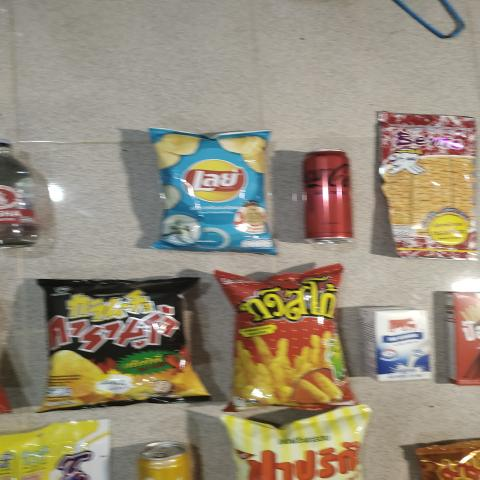bento_red: (384, 109, 480, 252)
coke_red: (300, 147, 355, 243)
karamujo: (47, 274, 187, 404)
lay_blue: (161, 134, 265, 238)
thai_denmark: (364, 311, 437, 383)
twisco: (221, 268, 350, 404)
